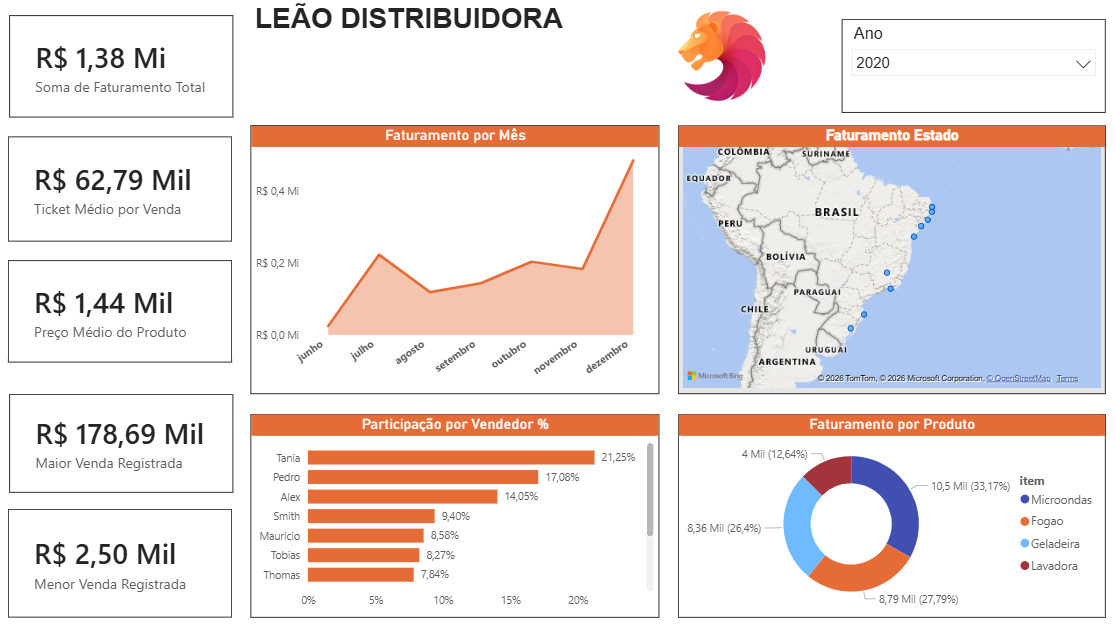

The dashboard page shown, as its layout file describes it:
{"tool":"powerbi","page":{"name":"Página 1","canvas":[1280,720],"ordinal":0},"visuals":[{"type":"cardVisual","fields":{"Data":["Sum(Consulta1.Valor da Venda)"]},"box":[12.9,18.6,255.7,117.1],"z":0},{"type":"cardVisual","fields":{"Data":["Consulta1.Maior Venda"]},"box":[12.9,451.4,255.7,112.9],"z":1000},{"type":"cardVisual","fields":{"Data":["Consulta1.Menor Venda"]},"box":[11.4,582.9,255.7,124.3],"z":2000},{"type":"map","title":"Faturamento Estado","fields":{"Category":["Consulta1.estado"]},"box":[777.1,144.3,488.6,307.1],"z":3000},{"type":"cardVisual","fields":{"Data":["Consulta1.Média Preço"]},"box":[11.4,298.6,255.7,117.1],"z":4000},{"type":"clusteredBarChart","title":"Participação por Vendedor %","fields":{"Y":["Sum(Consulta1.Valor da Venda)"],"Category":["Consulta1.vendedor"]},"box":[288.6,474.3,467.1,232.9],"z":5000},{"type":"areaChart","title":"Faturamento por Mês","fields":{"Category":["Consulta1.datapedido.Variation.Hierarquia de datas.Mês"],"Y":["Sum(Consulta1.Valor da Venda)"]},"box":[288.6,144.3,467.1,307.1],"z":6000},{"type":"donutChart","title":"Faturamento por  Produto","fields":{"Y":["Sum(Consulta1.precounidade)"],"Category":["Consulta1.item"]},"box":[777.1,474.3,488.6,232.9],"z":7000},{"type":"cardVisual","fields":{"Data":["Consulta1.Ticket de vendas"]},"box":[11.4,157.1,255.7,120],"z":8000},{"type":"slicer","fields":{"Values":["Consulta1.datapedido.Variation.Hierarquia de datas.Ano"]},"box":[964.3,22.9,301.4,107.1],"z":9000},{"type":"image","box":[698.6,0,254.3,130],"z":10000},{"type":"textbox","box":[288.6,0,450,130],"z":10001}]}

Visuals, with their boxes in screenshot pixels (x1, y1, x2, y2), scaled from the page's 1280x720 canvas onto the 1115x625 screenshot:
cardVisual - Sum(Consulta1.Valor da Venda): BBox(11, 16, 234, 118)
cardVisual - Consulta1.Maior Venda: BBox(11, 392, 234, 490)
cardVisual - Consulta1.Menor Venda: BBox(10, 506, 233, 614)
"Faturamento Estado" map: BBox(677, 125, 1103, 392)
cardVisual - Consulta1.Média Preço: BBox(10, 259, 233, 361)
"Participação por Vendedor %" clusteredBarChart: BBox(251, 412, 658, 614)
"Faturamento por Mês" areaChart: BBox(251, 125, 658, 392)
"Faturamento por  Produto" donutChart: BBox(677, 412, 1103, 614)
cardVisual - Consulta1.Ticket de vendas: BBox(10, 136, 233, 241)
slicer - Consulta1.datapedido.Variation.Hierarquia de datas.Ano: BBox(840, 20, 1103, 113)
image: BBox(609, 0, 830, 113)
textbox: BBox(251, 0, 643, 113)
